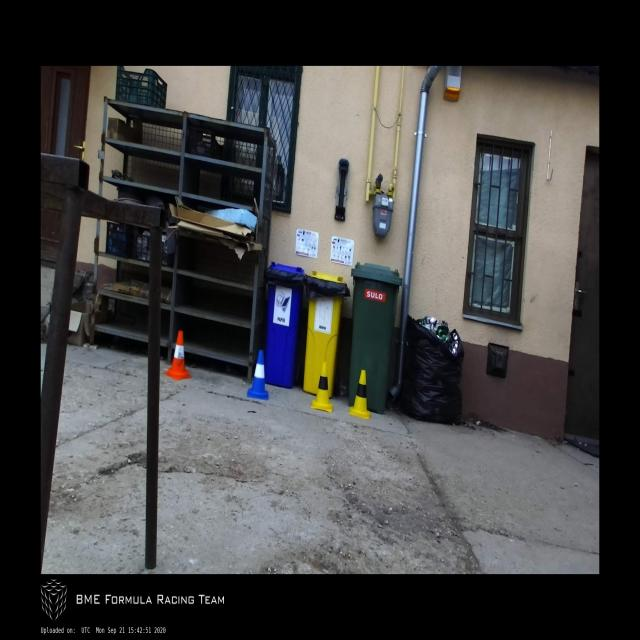blue_cone: (247, 350, 269, 400)
orange_cone: (164, 331, 192, 380)
yellow_cone: (348, 370, 371, 419), (311, 362, 333, 412)
